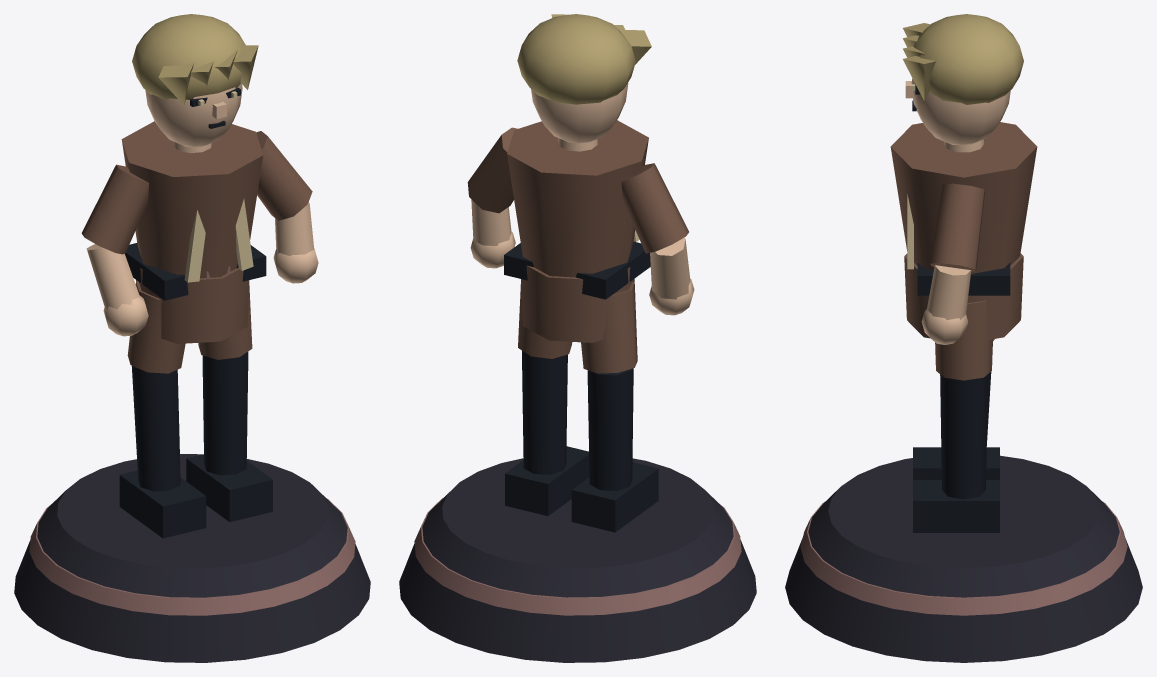
Rendered from zeke.glb.
3 renders of one model, left to right at view 1: azimuth 30°, elevation 25°; view 2: azimuth 150°, elevation 25°; view 3: azimuth 270°, elevation 25°, orthographic.
Parts seen in each view (by area): view 1: Placeholder Zeke Yeager; view 2: Placeholder Zeke Yeager; view 3: Placeholder Zeke Yeager.
Boxes of the visible parts, x1,y1,x2,y2 form: Placeholder Zeke Yeager: [14, 14, 370, 662]; Placeholder Zeke Yeager: [399, 14, 756, 662]; Placeholder Zeke Yeager: [785, 14, 1142, 662].
Bounding box in the file's own units: 0.54 × 0.9438 × 0.54.
